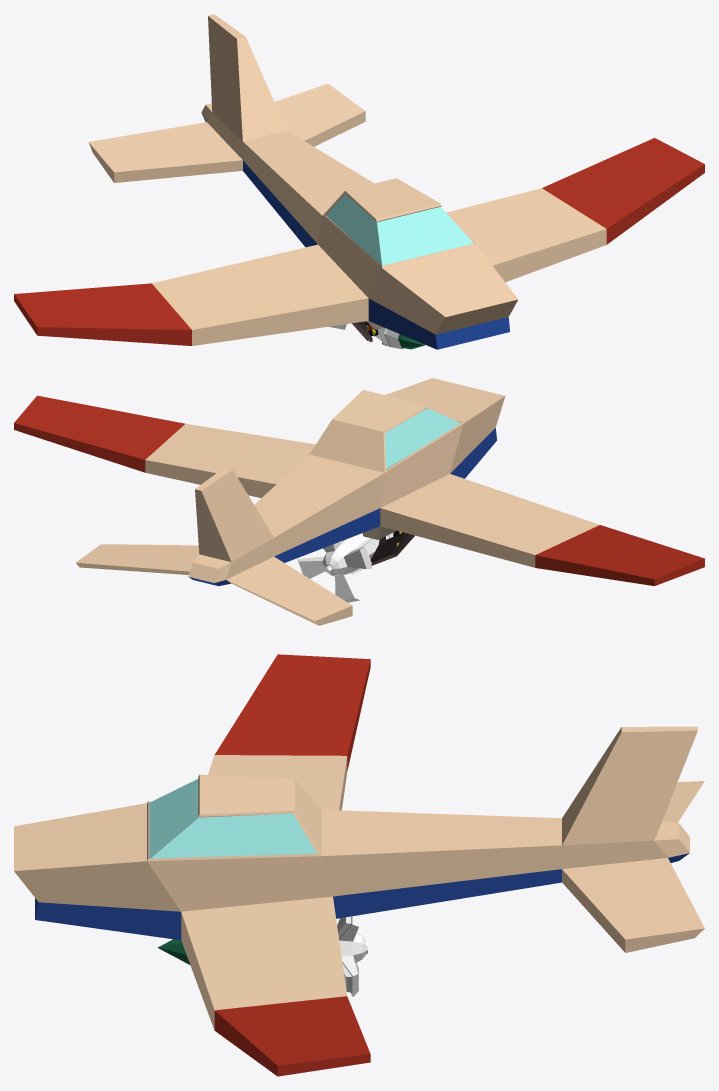
3 views of the same model, one above another, from view 1: azimuth 30°, elevation 25°; view 2: azimuth 150°, elevation 25°; view 3: azimuth 270°, elevation 25° (orthographic). The views are drawn at different scales.
Visible parts, largest first — view 1: Cube.012; view 2: Cube.012; view 3: Cube.012.
Boxes of the visible parts, x1=… form: Cube.012: x1=14, y1=14, x2=704, y2=349; Cube.012: x1=14, y1=378, x2=704, y2=625; Cube.012: x1=14, y1=654, x2=704, y2=1076.
Size of the model in its own units: 14.01 by 4.29 by 9.95.
Materials: 1 (1 with a texture image).
